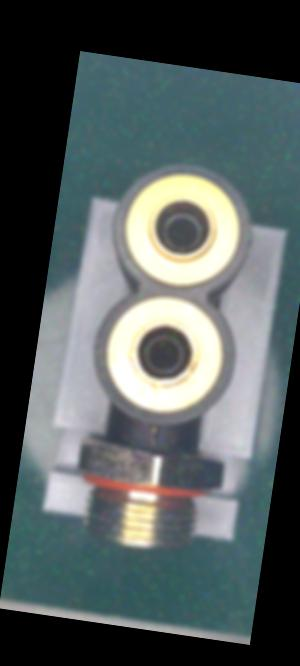craze: (143, 419, 164, 458)
